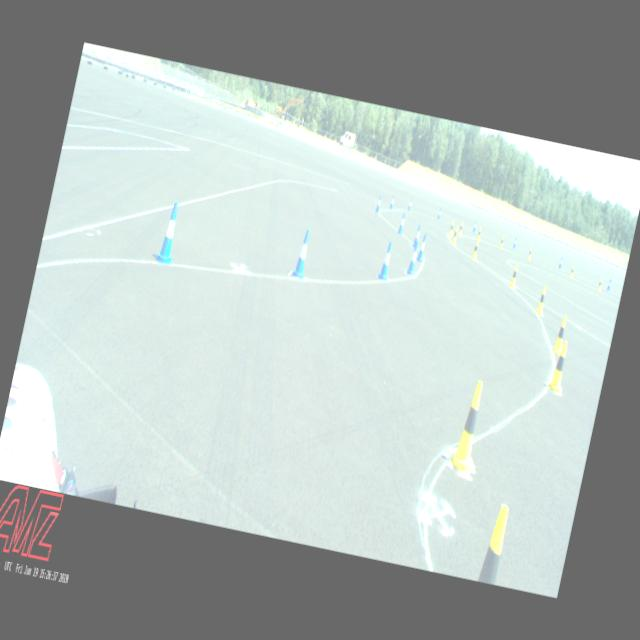blue_cone: (156, 201, 183, 264), (292, 230, 312, 278), (376, 241, 394, 281), (404, 242, 420, 276), (415, 232, 428, 262), (411, 222, 422, 249), (396, 212, 406, 234), (374, 194, 382, 212), (388, 194, 394, 210), (606, 278, 612, 290), (512, 236, 517, 249), (407, 198, 412, 210), (472, 220, 477, 232), (437, 208, 442, 218), (558, 257, 562, 268)
yellow_cone: (448, 378, 488, 476), (477, 501, 512, 584), (547, 339, 571, 394), (552, 314, 570, 356), (534, 284, 548, 316), (508, 263, 520, 288), (471, 239, 480, 259), (451, 225, 458, 244), (448, 219, 454, 235), (458, 220, 464, 235), (596, 278, 602, 292), (568, 264, 574, 278), (499, 235, 505, 248), (526, 246, 532, 259), (476, 226, 482, 239)
